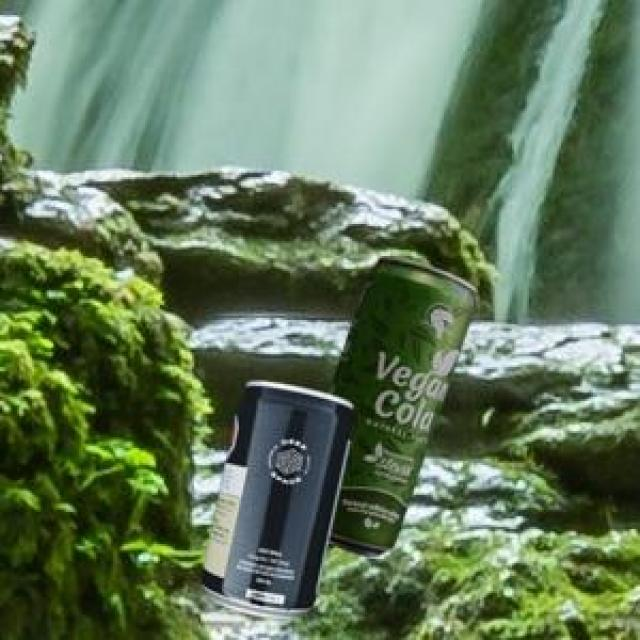logam: (325, 253, 473, 554), (197, 379, 351, 615)
